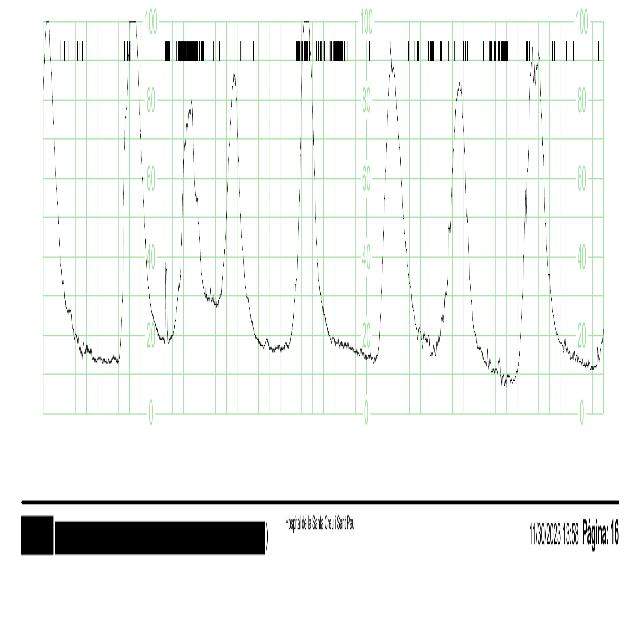contraction: (512, 43, 554, 376), (370, 48, 413, 359), (433, 77, 481, 351), (285, 19, 324, 346), (112, 17, 145, 363), (216, 75, 248, 301), (174, 100, 202, 322), (162, 266, 169, 342)
